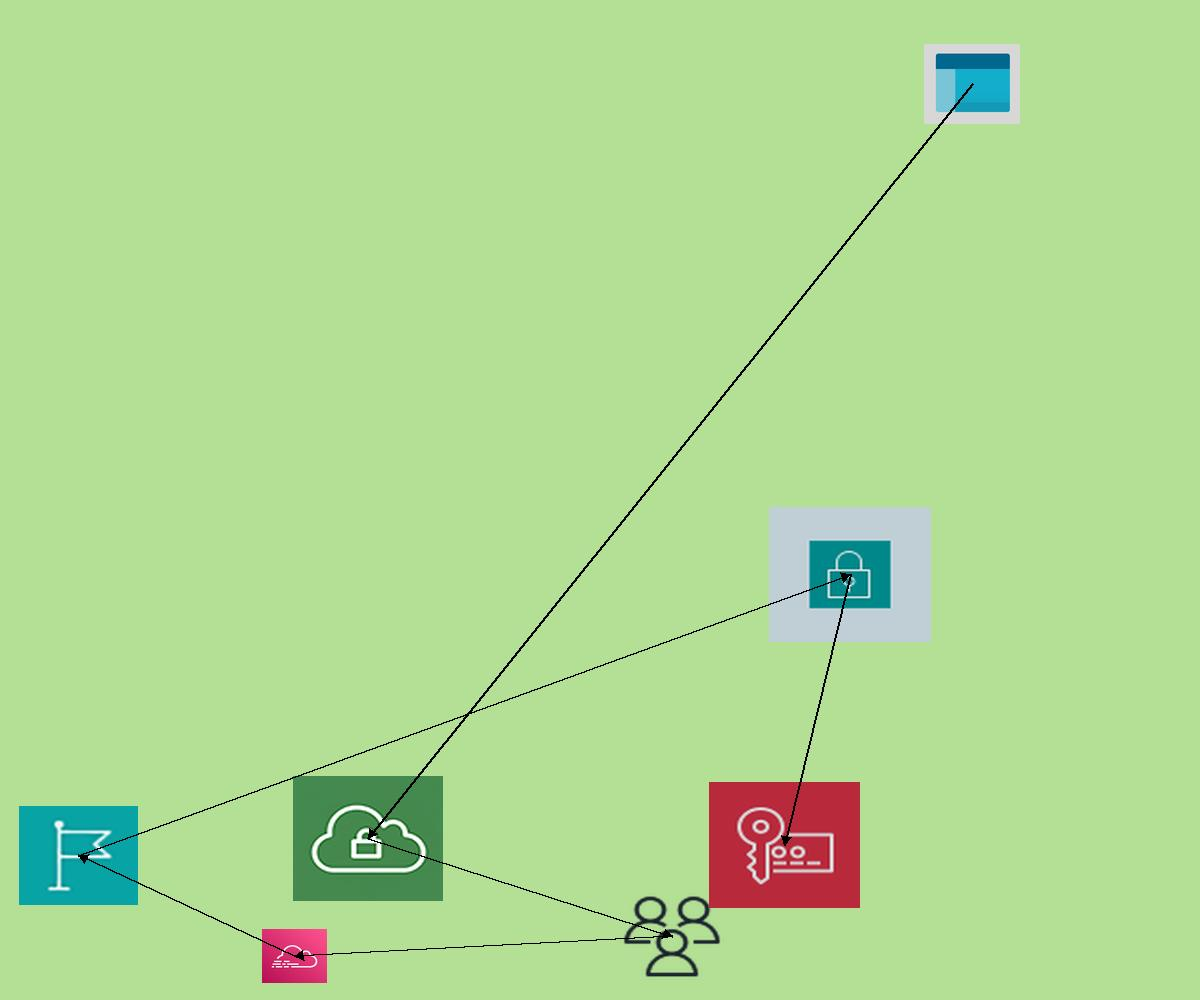AWS-CloudTrail: (262, 929, 327, 983)
AWS-Key-Management-Service: (709, 782, 860, 908)
AWS-Private-subnet: (769, 507, 931, 642)
AWS-Private_vpc: (293, 776, 443, 901)
AWS-Region: (19, 806, 138, 905)
AWS-Res_Users: (620, 893, 724, 980)
Azure_management-portal: (924, 44, 1020, 124)
